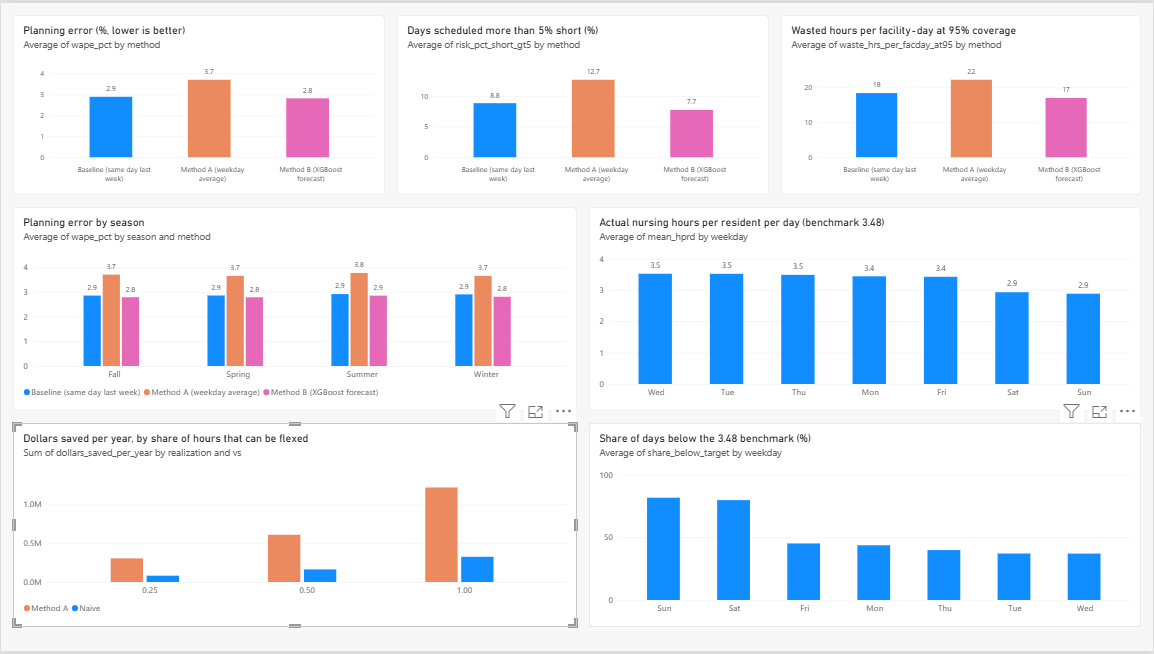

This screenshot's page, from the dashboard's own definition file:
{"tool":"powerbi","page":{"name":"Staffing forecast","canvas":[1920,1080],"ordinal":0},"visuals":[{"type":"clusteredColumnChart","title":"Planning error (%, lower is better)","fields":{"Category":["metrics_main4_pooled.method"],"Y":["Average(metrics_main4_pooled.wape_pct)"]},"box":[20,20,620,300],"z":0},{"type":"clusteredColumnChart","title":"Days scheduled more than 5% short (%)","fields":{"Category":["metrics_main4_pooled.method"],"Y":["Average(metrics_main4_pooled.risk_pct_short_gt5)"]},"box":[660,20,620,300],"z":1000},{"type":"clusteredColumnChart","title":"Wasted hours per facility-day at 95% coverage","fields":{"Category":["metrics_main4_pooled.method"],"Y":["Average(metrics_main4_pooled.waste_hrs_per_facday_at95)"]},"box":[1300,20,600,300],"z":2000},{"type":"clusteredColumnChart","title":"Planning error by season","fields":{"Category":["metrics_by_season.season"],"Series":["metrics_by_season.method"],"Y":["Average(metrics_by_season.wape_pct)"]},"box":[20,340,940,340],"z":3000},{"type":"clusteredColumnChart","title":"Actual nursing hours per resident per day (benchmark 3.48)","fields":{"Category":["real_staffing_by_weekday.weekday"],"Y":["Average(real_staffing_by_weekday.mean_hprd)"]},"box":[980,340,920,340],"z":4000},{"type":"clusteredColumnChart","title":"Dollars saved per year, by share of hours that can be flexed","fields":{"Category":["roi_sensitivity.realization"],"Series":["roi_sensitivity.vs"],"Y":["Sum(roi_sensitivity.dollars_saved_per_year)"]},"box":[20,700,940,340],"z":5000},{"type":"clusteredColumnChart","title":"Share of days below the 3.48 benchmark (%)","fields":{"Category":["real_staffing_by_weekday.weekday"],"Y":["Average(real_staffing_by_weekday.share_below_target)"]},"box":[980,700,920,340],"z":6000}]}

Visuals, with their boxes in screenshot pixels (x1, y1, x2, y2), scaled from the page's 1920x1080 canvas onto the 1154x654 screenshot:
"Planning error (%, lower is better)" clusteredColumnChart: pyautogui.locateOnScreen(12, 12, 385, 194)
"Days scheduled more than 5% short (%)" clusteredColumnChart: pyautogui.locateOnScreen(397, 12, 769, 194)
"Wasted hours per facility-day at 95% coverage" clusteredColumnChart: pyautogui.locateOnScreen(781, 12, 1142, 194)
"Planning error by season" clusteredColumnChart: pyautogui.locateOnScreen(12, 206, 577, 412)
"Actual nursing hours per resident per day (benchmark 3.48)" clusteredColumnChart: pyautogui.locateOnScreen(589, 206, 1142, 412)
"Dollars saved per year, by share of hours that can be flexed" clusteredColumnChart: pyautogui.locateOnScreen(12, 424, 577, 630)
"Share of days below the 3.48 benchmark (%)" clusteredColumnChart: pyautogui.locateOnScreen(589, 424, 1142, 630)
